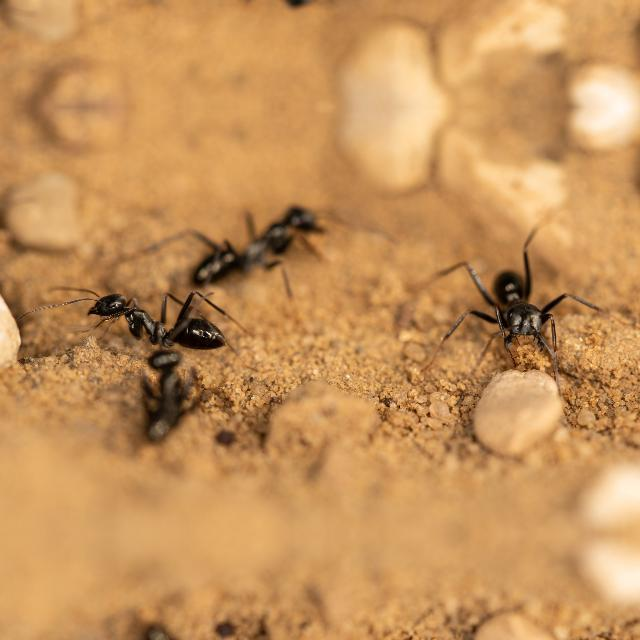Cataglyphis: (177, 193, 349, 299), (449, 250, 587, 362), (66, 277, 236, 357), (123, 352, 217, 436)
